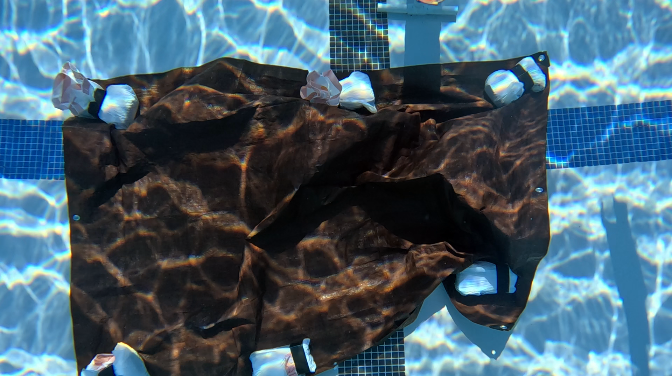sandbag: (54, 49, 548, 375)
